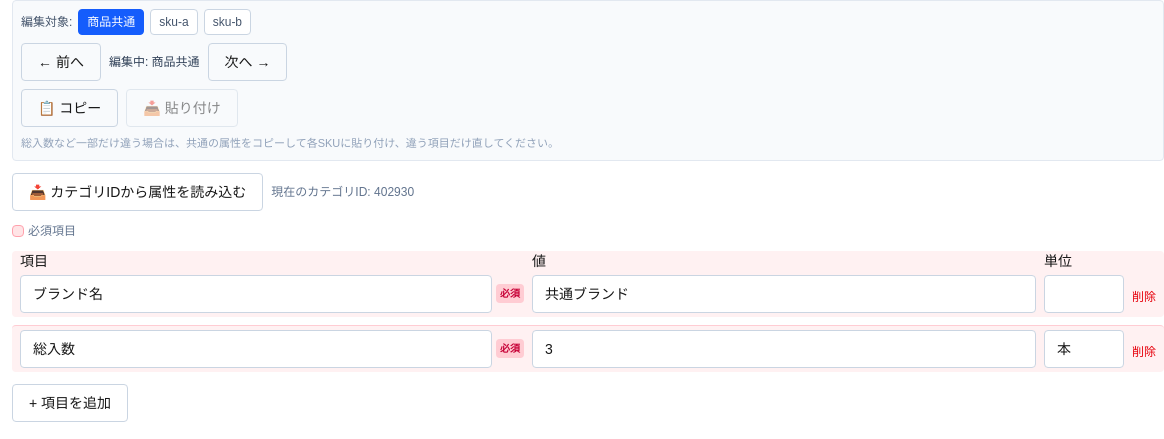
Test case: AttributeSection SKU単位の属性編集 › 複数SKUでは「次へ →」で編集対象が商品共通→各SKUへ切り替わる
This screenshot has width=1164, height=439.
Expected: the text "編集中: 商品共通" is shown, [109,54,200,70]
Expected: the field named "属性1 値" holds "共通ブランド", [532,274,1036,312]
Step 1. Click the button "次へ →" → (248, 62), box [208,43,288,81]
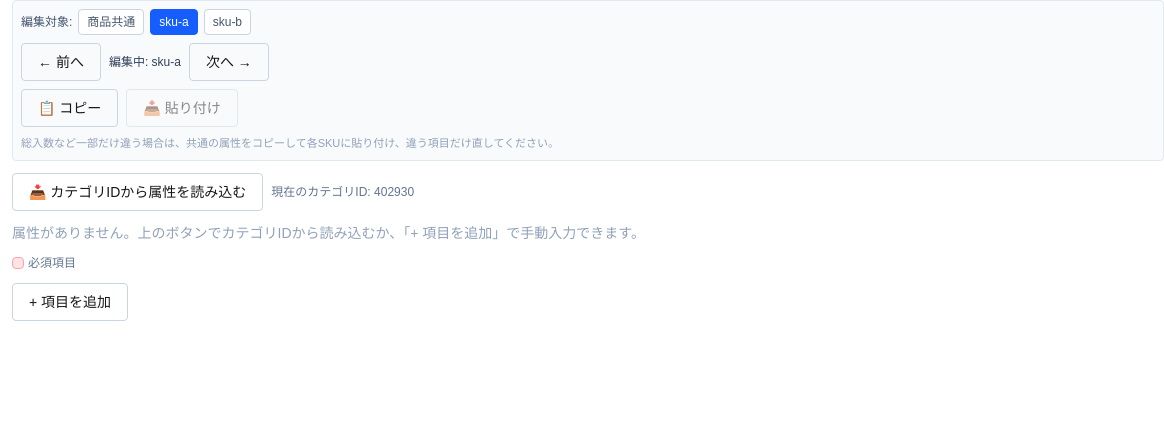
Now the text "編集中: sku-a" is shown, box [109,54,181,70]
Now the text "属性がありません。上のボタンでカテゴリIDから読み込むか、「+ 項目を追加」で手動入力できます。" is shown, box [12,224,645,240]
Step 2. Click the button "次へ →" → (229, 62), box [189,43,269,81]
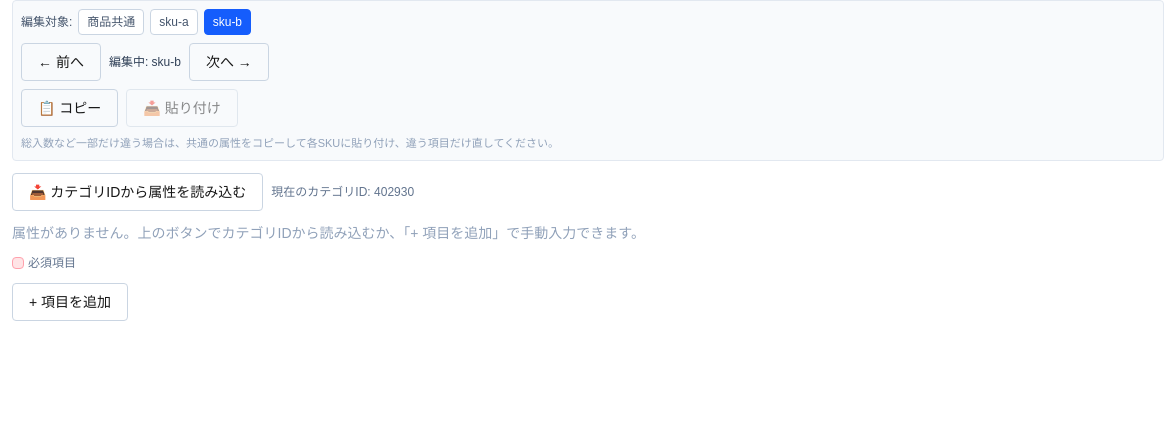
Now the text "編集中: sku-b" is shown, box [109,54,181,70]
